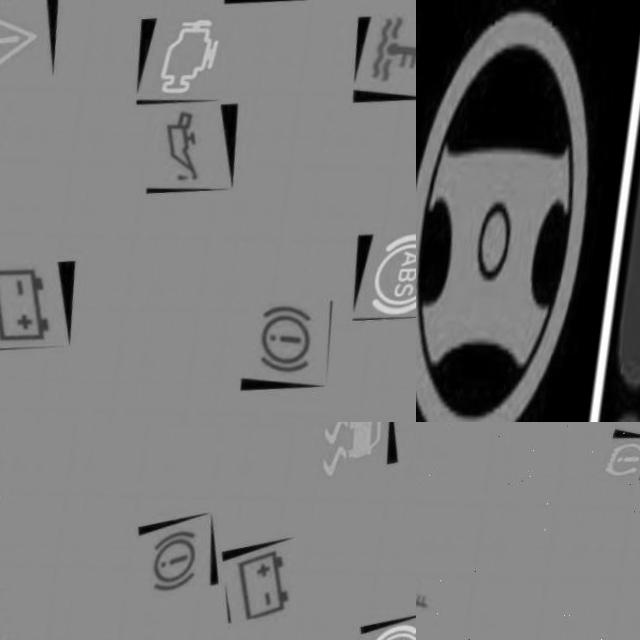Electronic Power Steering: (416, 0, 620, 422)
